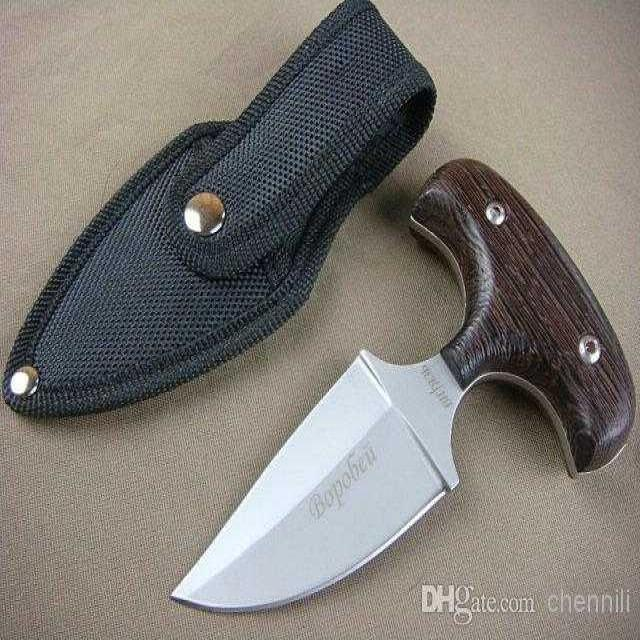Knife: (167, 153, 640, 620)
